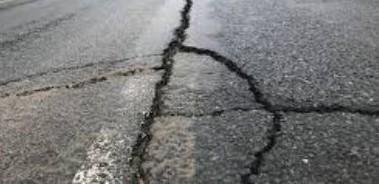crack: (178, 40, 274, 184), (131, 1, 196, 184), (0, 49, 169, 104), (147, 101, 379, 129)
